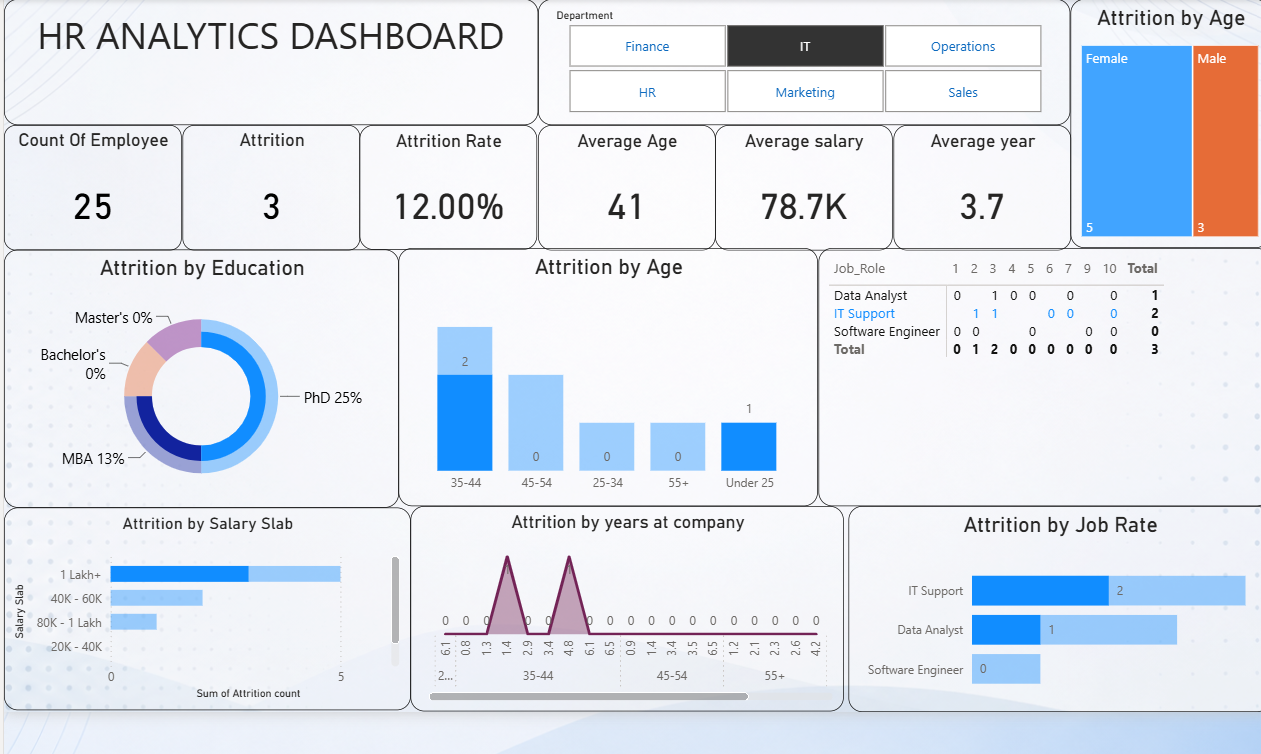

The dashboard page shown, as its layout file describes it:
{"tool":"powerbi","page":{"name":"Page 1","canvas":[1280,720],"ordinal":0},"visuals":[{"type":"card","title":"Count Of Employee","fields":{"Values":["CountNonNull(HR_Analytics_PowerBI_Dataset.Employee_ID)"]},"box":[0,126.6,179.5,126.6],"z":0},{"type":"card","title":"Attrition","fields":{"Values":["Sum(HR_Analytics_PowerBI_Dataset.Attrition count)"]},"box":[179.5,126.6,179.5,126.6],"z":1000},{"type":"card","title":"Attrition Rate","fields":{"Values":["HR_Analytics_PowerBI_Dataset.Attrition Rate"]},"box":[359.1,126.6,179,126],"z":2000},{"type":"card","title":"Average Age","fields":{"Values":["Avg(HR_Analytics_PowerBI_Dataset.Age)"]},"box":[538.6,126.6,179,126.6],"z":3000},{"type":"card","title":"Average salary","fields":{"Values":["Avg(HR_Analytics_PowerBI_Dataset.Monthly_Salary)"]},"box":[718.1,126.6,179,126.6],"z":3001},{"type":"card","title":"Average year","fields":{"Values":["Avg(HR_Analytics_PowerBI_Dataset.Years_at_Company)"]},"box":[897.6,126.6,179,126.6],"z":3002},{"type":"columnChart","title":" Attrition by Age","fields":{"Category":["HR_Analytics_PowerBI_Dataset.Age Group"],"Y":["Sum(HR_Analytics_PowerBI_Dataset.Attrition count)"]},"box":[398.7,251.3,423.3,260.8],"z":3004},{"type":"pivotTable","fields":{"Rows":["HR_Analytics_PowerBI_Dataset.Job_Role"],"Columns":["HR_Analytics_PowerBI_Dataset.Job_Satisfaction"],"Values":["Sum(HR_Analytics_PowerBI_Dataset.Attrition count)"]},"box":[822.1,251.3,457.3,260.8],"z":3005},{"type":"donutChart","title":" Attrition by Education","fields":{"Category":["HR_Analytics_PowerBI_Dataset.Education"],"Y":["Sum(HR_Analytics_PowerBI_Dataset.Attrition count)"]},"box":[0,253.2,398.7,260.8],"z":3006},{"type":"barChart","title":" Attrition by Salary Slab","fields":{"Category":["HR_Analytics_PowerBI_Dataset.Salary Slab"],"Y":["Sum(HR_Analytics_PowerBI_Dataset.Attrition count)"]},"box":[0,513.3,410.3,204.4],"z":3007},{"type":"areaChart","title":" Attrition by years at company","fields":{"Category":["HR_Analytics_PowerBI_Dataset.Age Group","HR_Analytics_PowerBI_Dataset.Years_at_Company"],"Y":["Sum(HR_Analytics_PowerBI_Dataset.Attrition count)"]},"box":[410.3,511.8,437.6,207.4],"z":3008},{"type":"clusteredBarChart","title":" Attrition by Job Rate","fields":{"Y":["Sum(HR_Analytics_PowerBI_Dataset.Attrition count)"],"Category":["HR_Analytics_PowerBI_Dataset.Job_Role"]},"box":[852.3,512.1,427.1,207.9],"z":3009},{"type":"treemap","title":" Attrition by Age","fields":{"Group":["HR_Analytics_PowerBI_Dataset.Gender"],"Values":["Sum(HR_Analytics_PowerBI_Dataset.Attrition count)"]},"box":[1077.2,0,202.2,251.3],"z":3010},{"type":"slicer","fields":{"Values":["HR_Analytics_PowerBI_Dataset.Department"]},"box":[539.1,0,537.5,127.2],"z":3011},{"type":"textbox","box":[0,0,539.1,127.2],"z":3012}]}

Visuals, with their boxes in screenshot pixels (x1, y1, x2, y2):
"Count Of Employee" card: rect(0, 118, 178, 245)
"Attrition" card: rect(178, 118, 358, 245)
"Attrition Rate" card: rect(358, 118, 539, 245)
"Average Age" card: rect(539, 118, 720, 245)
"Average salary" card: rect(720, 118, 900, 245)
"Average year" card: rect(901, 118, 1081, 245)
" Attrition by Age" columnChart: rect(398, 243, 825, 506)
pivotTable - HR_Analytics_PowerBI_Dataset.Job_Role x HR_Analytics_PowerBI_Dataset.Job_Satisfaction: rect(825, 243, 1260, 506)
" Attrition by Education" donutChart: rect(0, 245, 398, 508)
" Attrition by Salary Slab" barChart: rect(0, 507, 410, 713)
" Attrition by years at company" areaChart: rect(410, 506, 851, 715)
" Attrition by Job Rate" clusteredBarChart: rect(855, 506, 1260, 715)
" Attrition by Age" treemap: rect(1082, 0, 1260, 243)
slicer - HR_Analytics_PowerBI_Dataset.Department: rect(540, 0, 1081, 118)
textbox: rect(0, 0, 540, 118)
